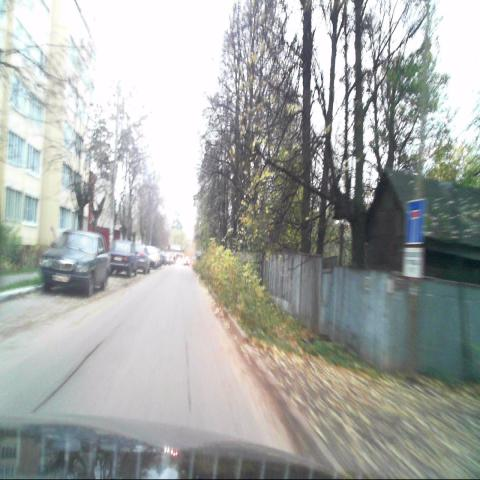6_8_1: (408, 197, 425, 244)
